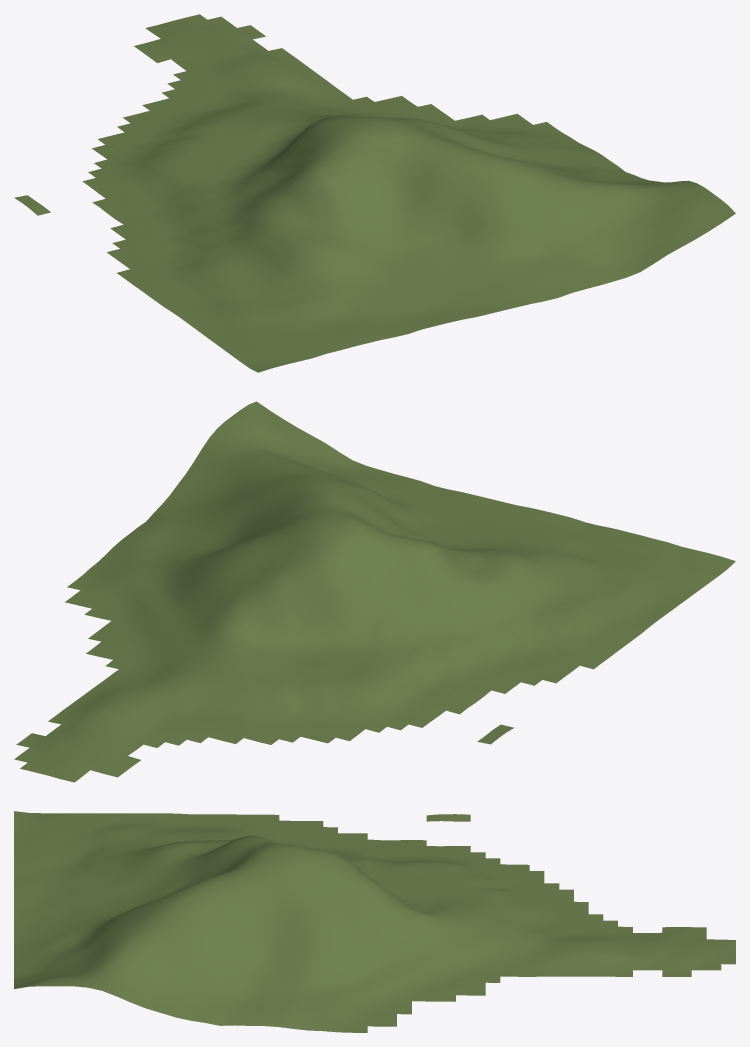
The model's file is ground.glb.
3 renders of one model, top to bottom at view 1: azimuth 30°, elevation 25°; view 2: azimuth 150°, elevation 25°; view 3: azimuth 270°, elevation 25°, orthographic. The views are drawn at different scales.
Visible parts, largest first — view 1: nui_nho_ground; view 2: nui_nho_ground; view 3: nui_nho_ground.
Boxes of the visible parts, bbox=[...] form: nui_nho_ground: bbox=[14, 14, 735, 372]; nui_nho_ground: bbox=[14, 401, 735, 782]; nui_nho_ground: bbox=[14, 811, 735, 1032].
Bounding box in the file's own units: 840 × 143 × 1176.
